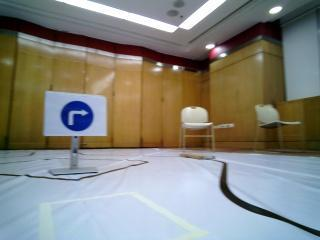right: (49, 94, 103, 130)
